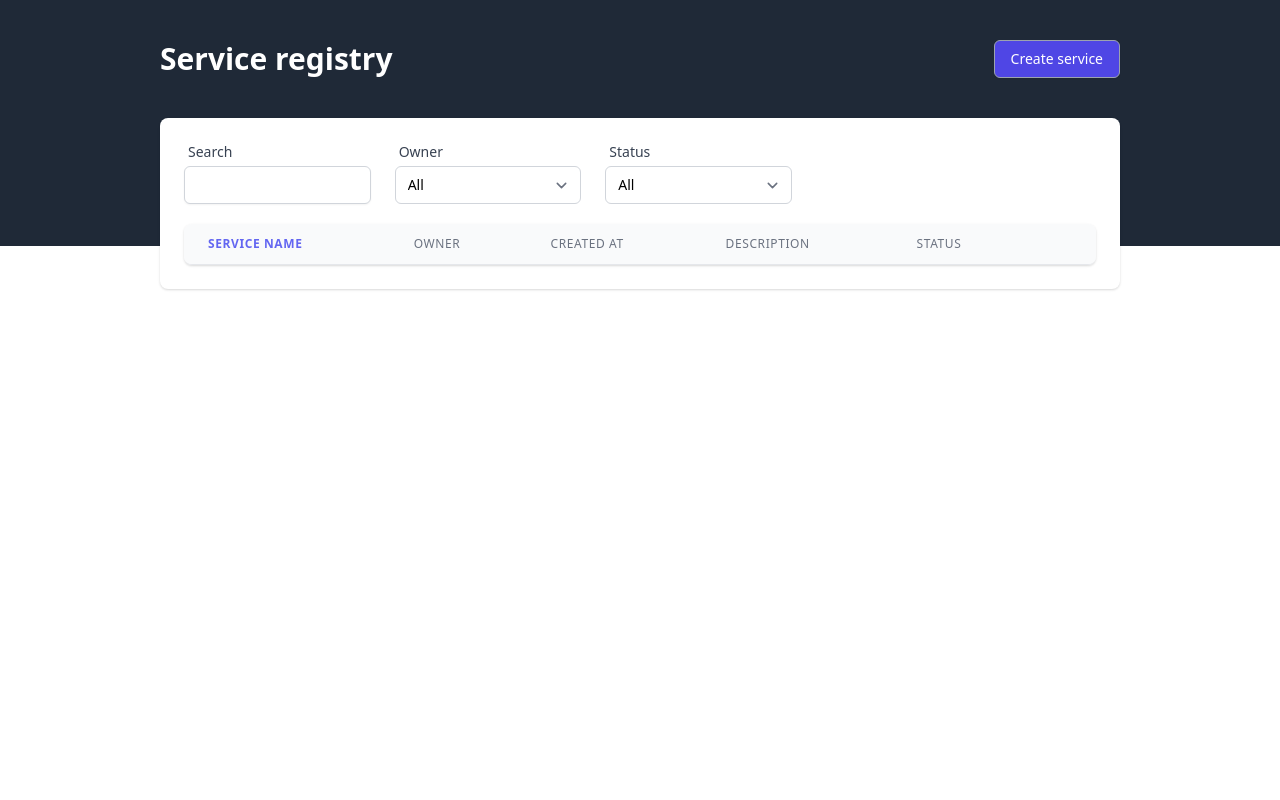
Test: Create test service 1 › Clicks on create service button
The width and height of the screenshot is (1280, 800).
Click the button with id "service-create-button" at (1057, 59), box [994,40,1120,78]
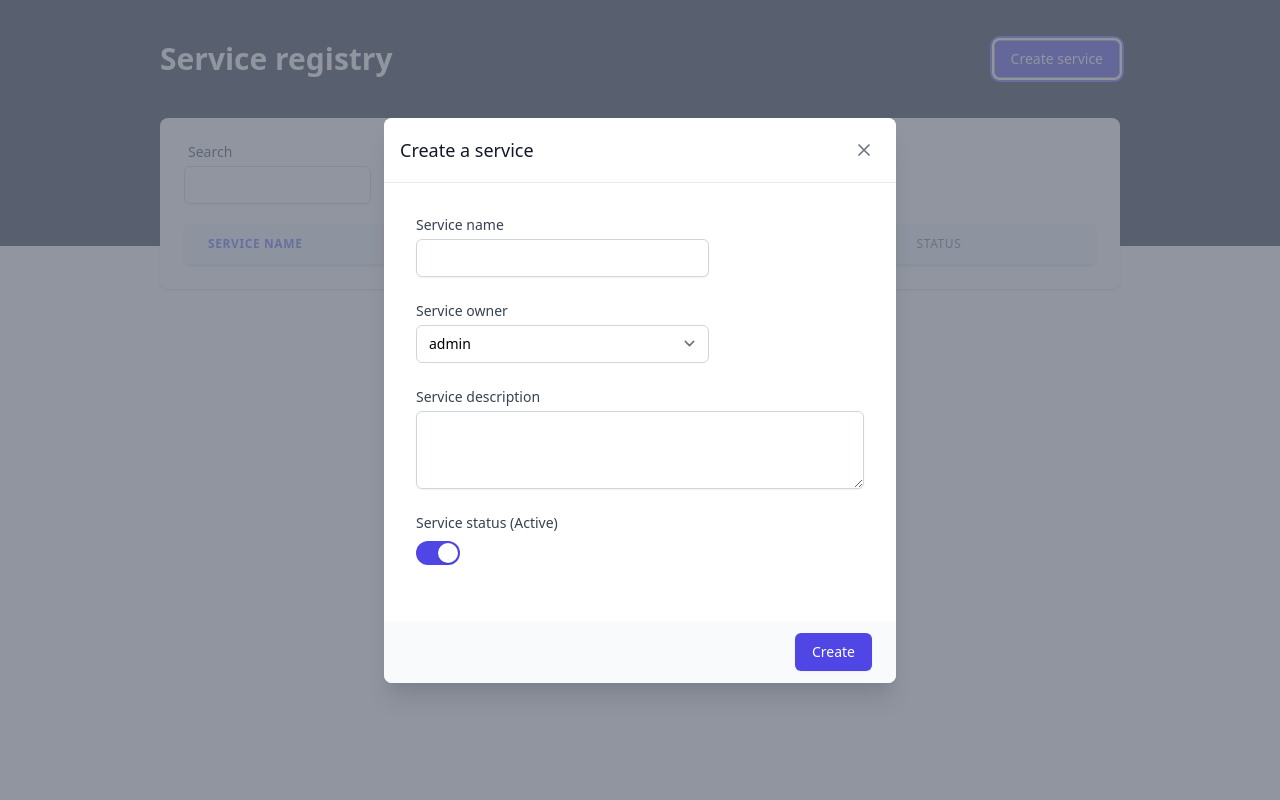
Check: the heading "Create a service" is shown, box [400,138,534,162]
